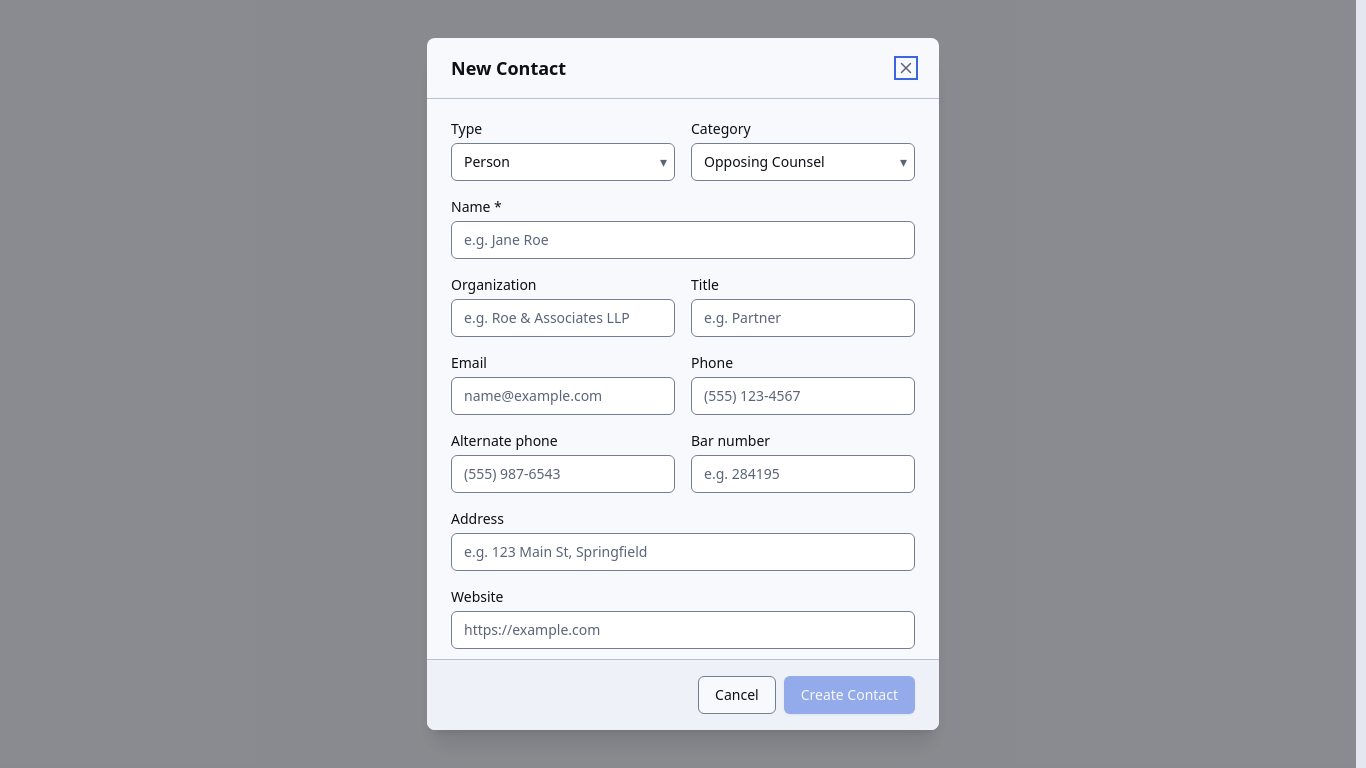
Scenario: the email address › refuses a malformed address without saving
Step 1. Type "Jane Roe" into the field labelled "Name *" → (683, 240), box left=451, top=221, right=915, bottom=259
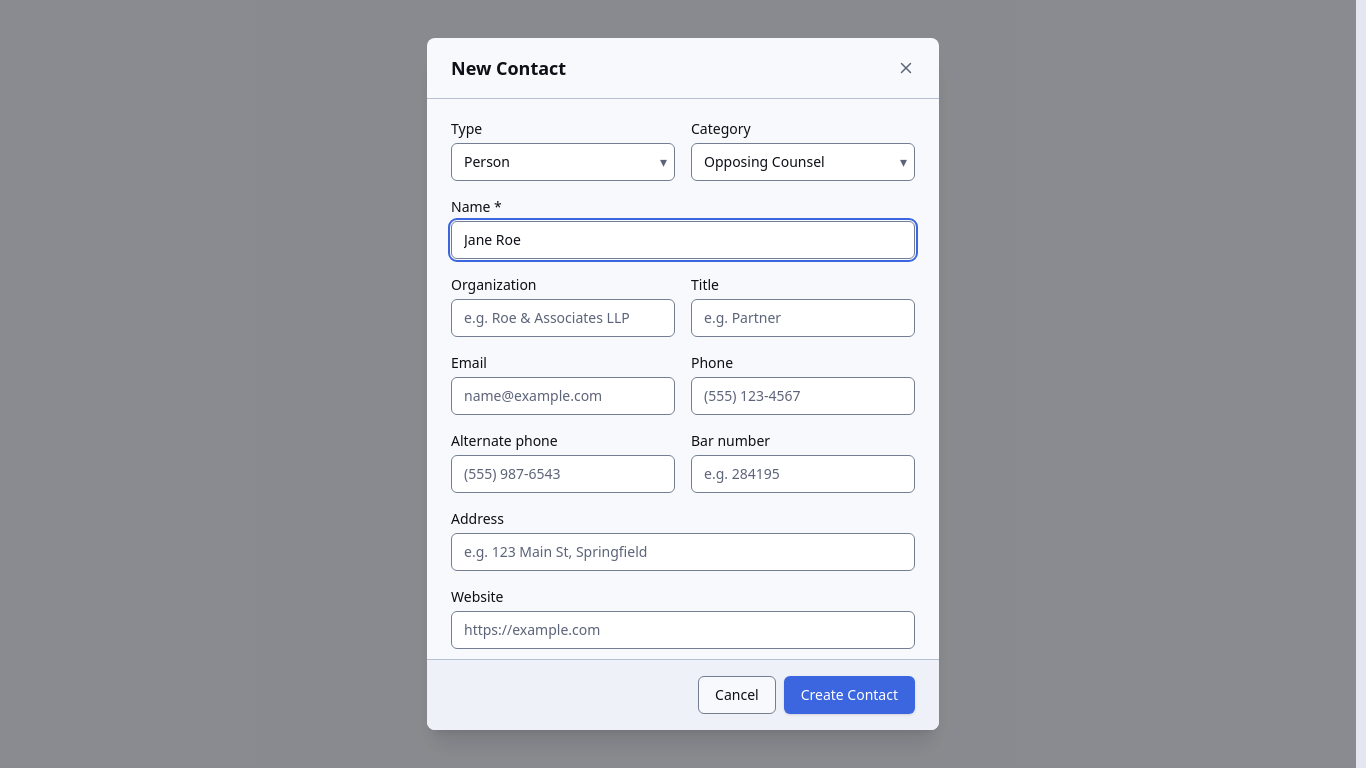
Step 2. Type "jane.roe-at-example" into the field labelled "Email" → (563, 396), box left=451, top=377, right=675, bottom=415
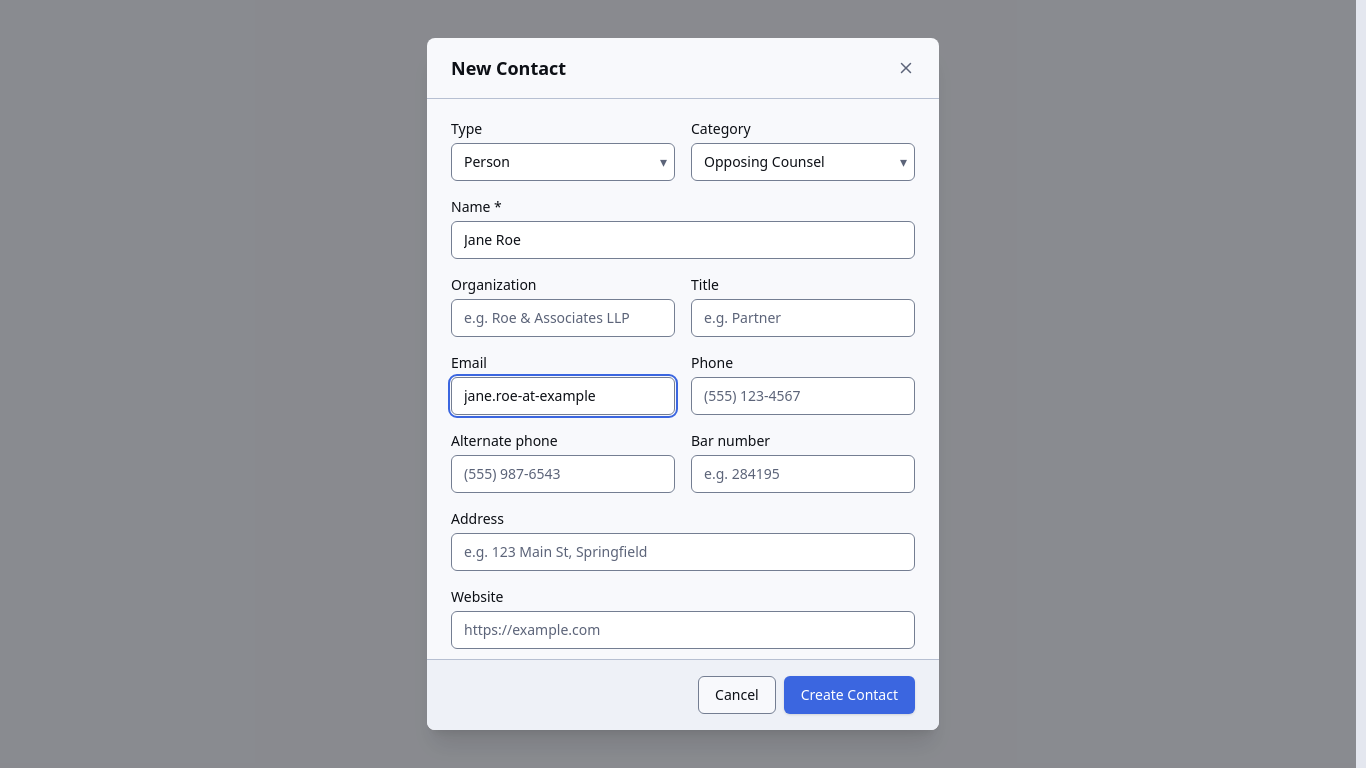
Step 3. Click the button "Create Contact" → (849, 695), box left=784, top=676, right=915, bottom=714
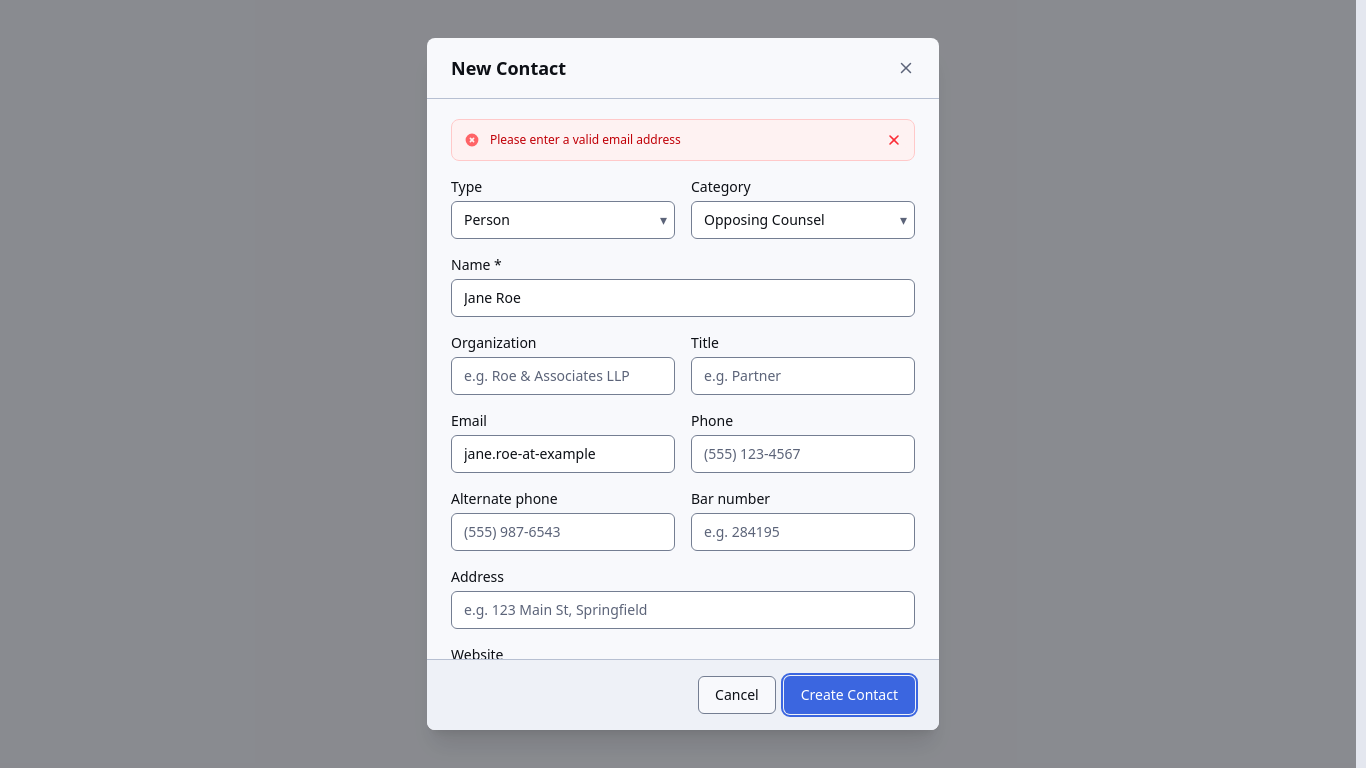
expect the text "Please enter a valid email address" is shown: met, box left=490, top=131, right=681, bottom=148
